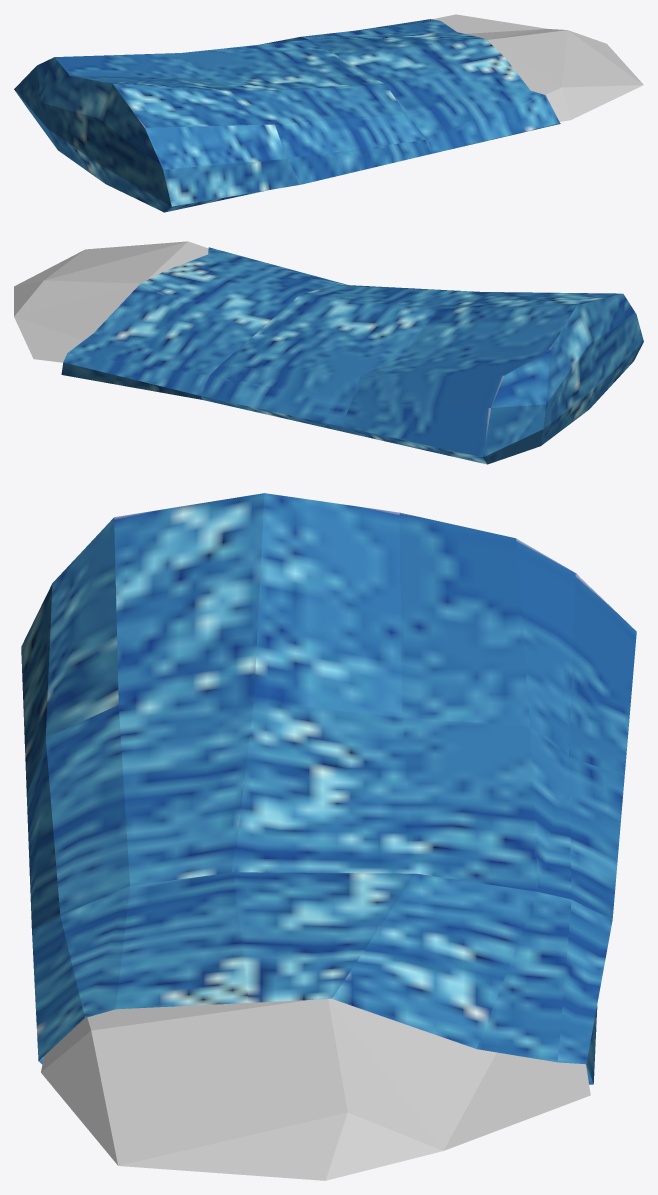
File: basura6.fbx
The picture shows the model from 3 angles, top to bottom: view 1: azimuth 30°, elevation 25°; view 2: azimuth 150°, elevation 25°; view 3: azimuth 270°, elevation 25°; orthographic projection. The views are drawn at different scales.
Parts seen in each view (by area): view 1: trashbag_3_blue; view 2: trashbag_3_blue; view 3: trashbag_3_blue.
Boxes of the visible parts, x1,y1,x2,y2 form: trashbag_3_blue: (14,14,643,212); trashbag_3_blue: (14,241,643,464); trashbag_3_blue: (21,493,636,1180).
Size of the model in its own units: 173 by 31.75 by 86.94.
